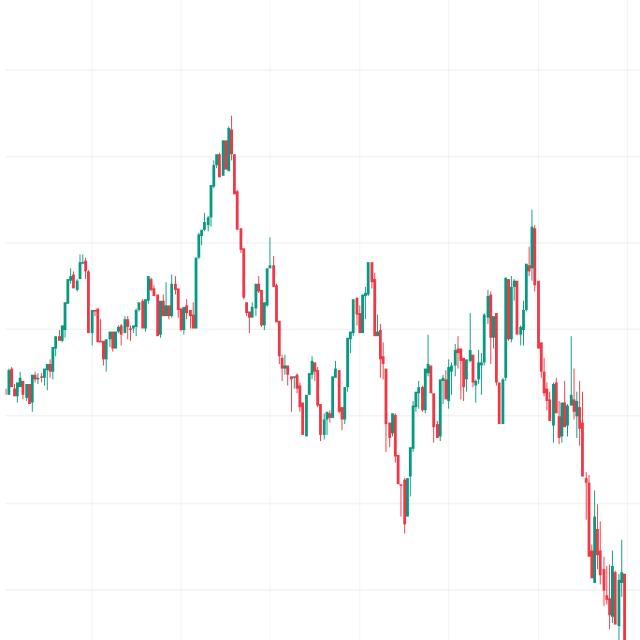Triple-Bottom: (292, 357, 354, 445)
